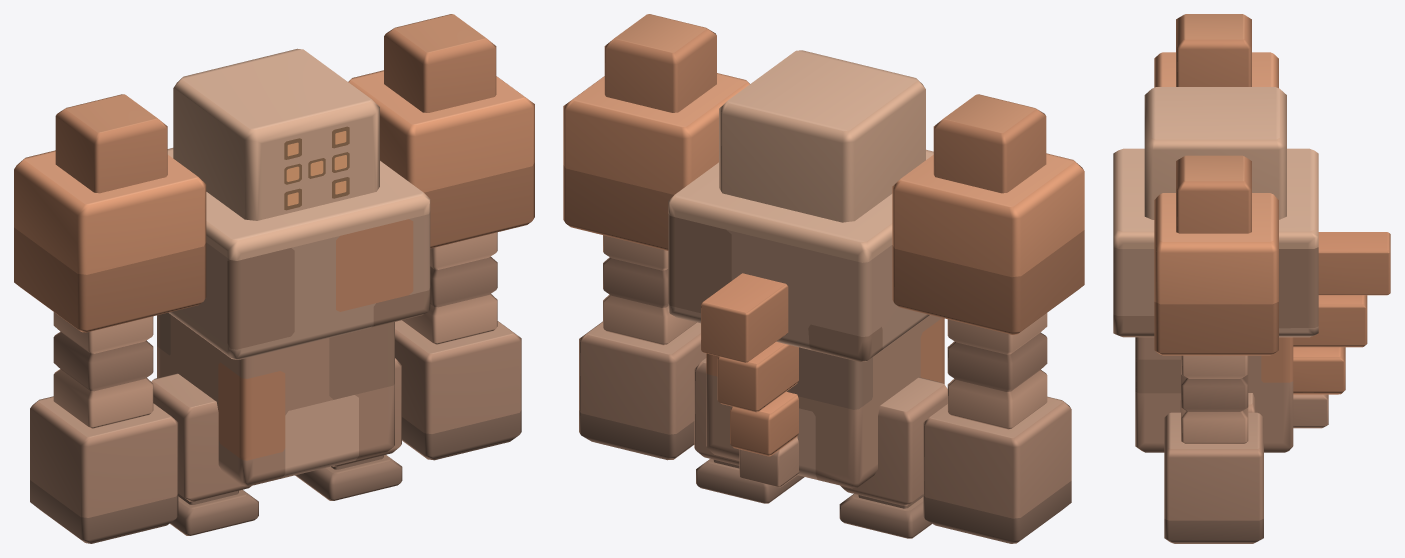
File: model_shiny.obj
3 renders of one model, left to right at view 1: azimuth 30°, elevation 25°; view 2: azimuth 150°, elevation 25°; view 3: azimuth 270°, elevation 25°, orthographic. The views are drawn at different scales.
Visible parts, largest first — view 1: 0377_regirock_shiny; view 2: 0377_regirock_shiny; view 3: 0377_regirock_shiny.
Boxes of the visible parts, x1=… form: 0377_regirock_shiny: x1=14, y1=14, x2=534, y2=543; 0377_regirock_shiny: x1=563, y1=14, x2=1084, y2=543; 0377_regirock_shiny: x1=1113, y1=14, x2=1390, y2=543.
Size of the model in its own units: 3.68 by 3.26 by 2.19.
Materials: 1 (1 with a texture image).
